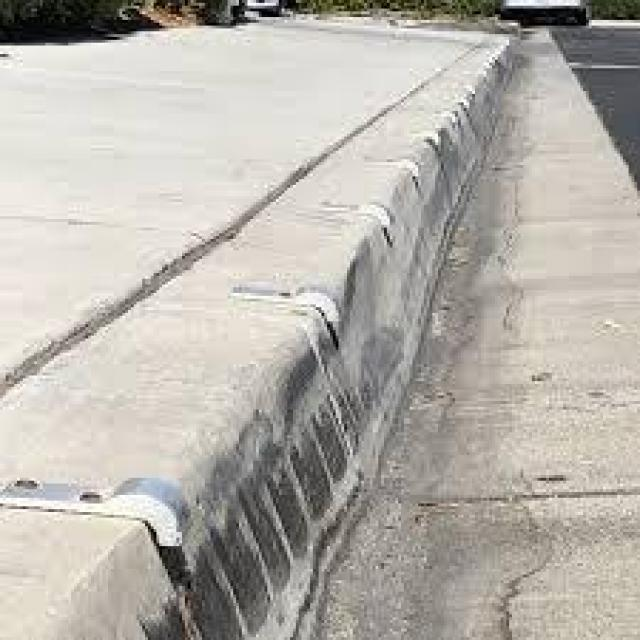curb: (6, 215, 448, 640), (334, 108, 479, 293), (433, 36, 526, 154)
